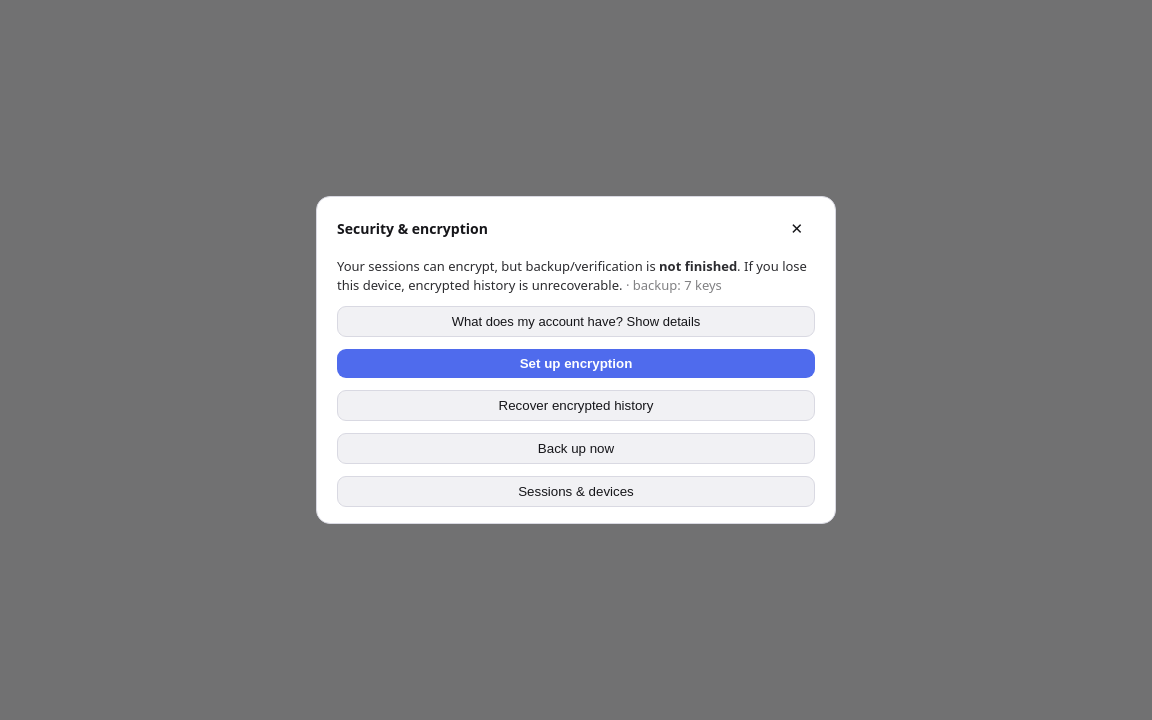
Scenario: W5a SecuritySheet › current session has no revoke button
Click the button with test id "start-sessions" at (576, 492), box [337,476,815,507]
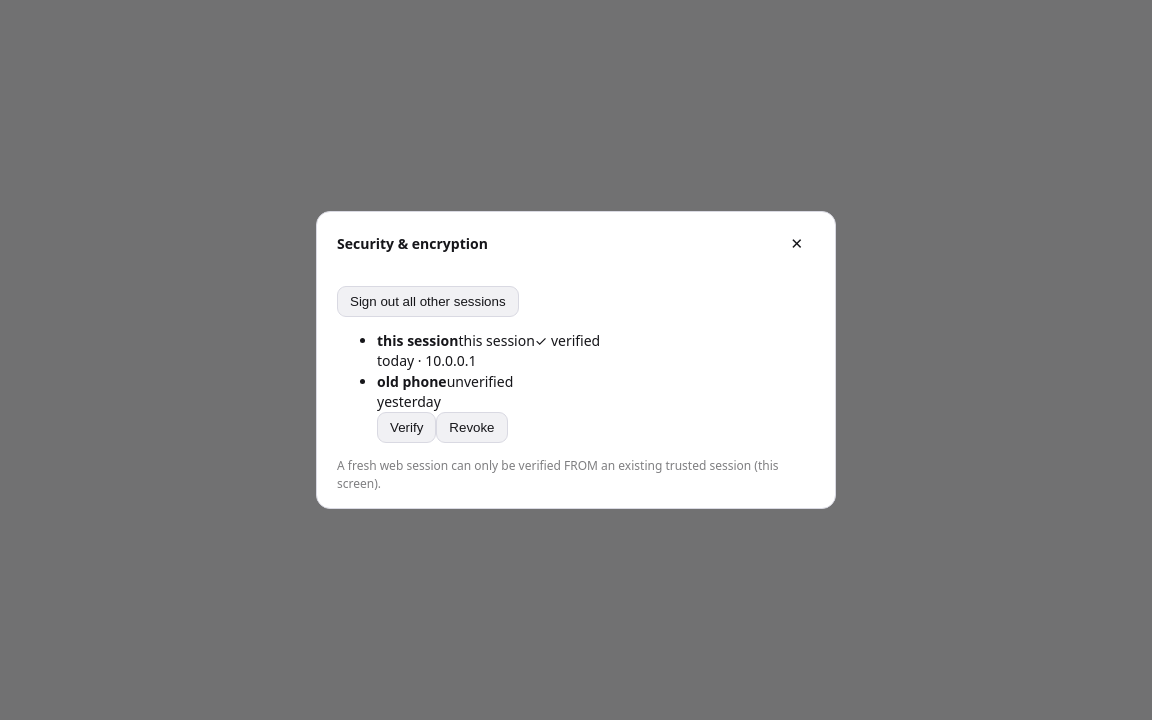
Result: the list item with test id "session-CUR" is shown at [377,331,600,370]
